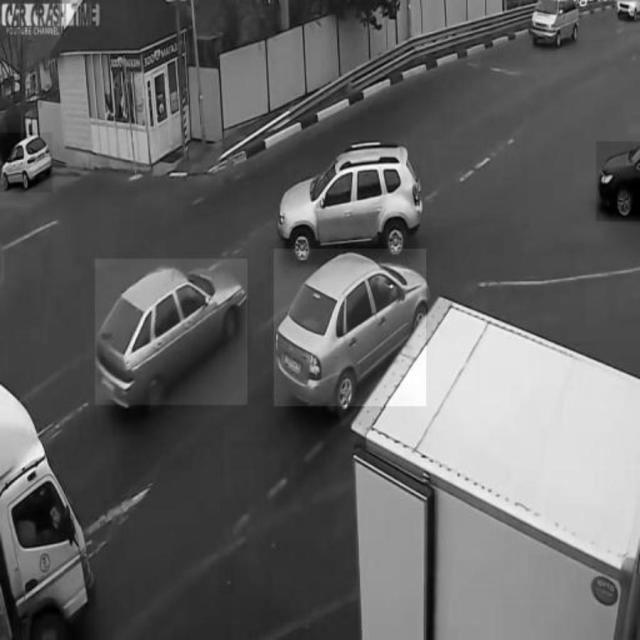vehicle: (274, 250, 426, 407), (0, 387, 92, 633), (96, 259, 248, 405), (279, 143, 429, 257), (596, 142, 640, 222), (1, 133, 53, 193), (529, 0, 581, 55)
